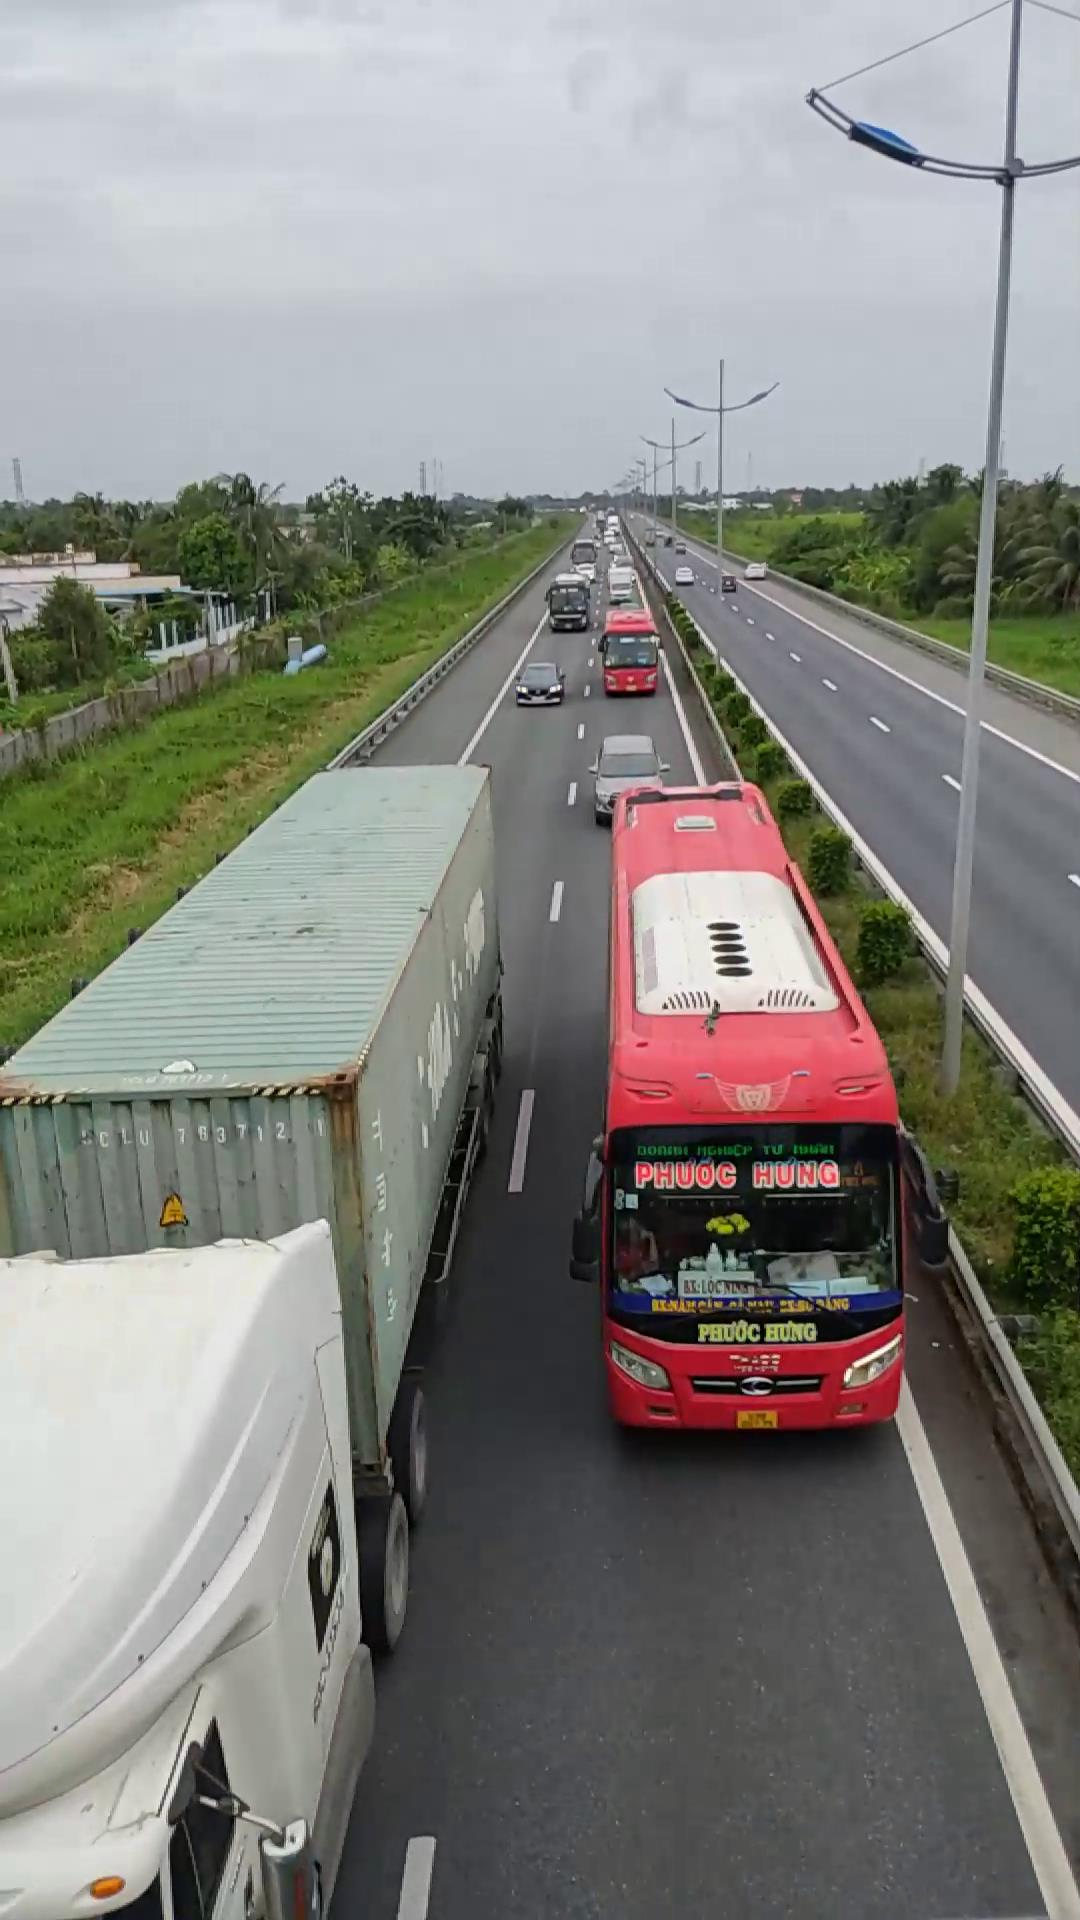bus: (587, 775, 919, 1433)
container: (10, 773, 496, 1902)
